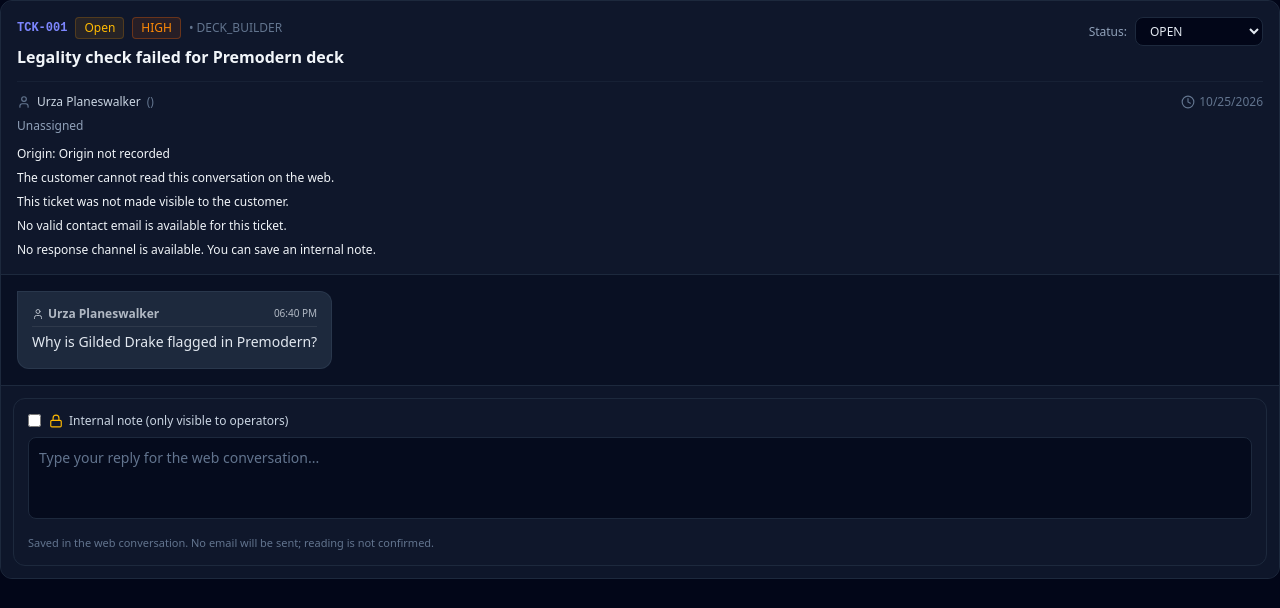
it: TicketDetail › has a distinct no-channel state and a private-only action
The width and height of the screenshot is (1280, 608).
expect the text "No response channel is available" is shown: met, box [17,241,376,258]
Click the checkbox at (34, 421), box [28,414,41,427]
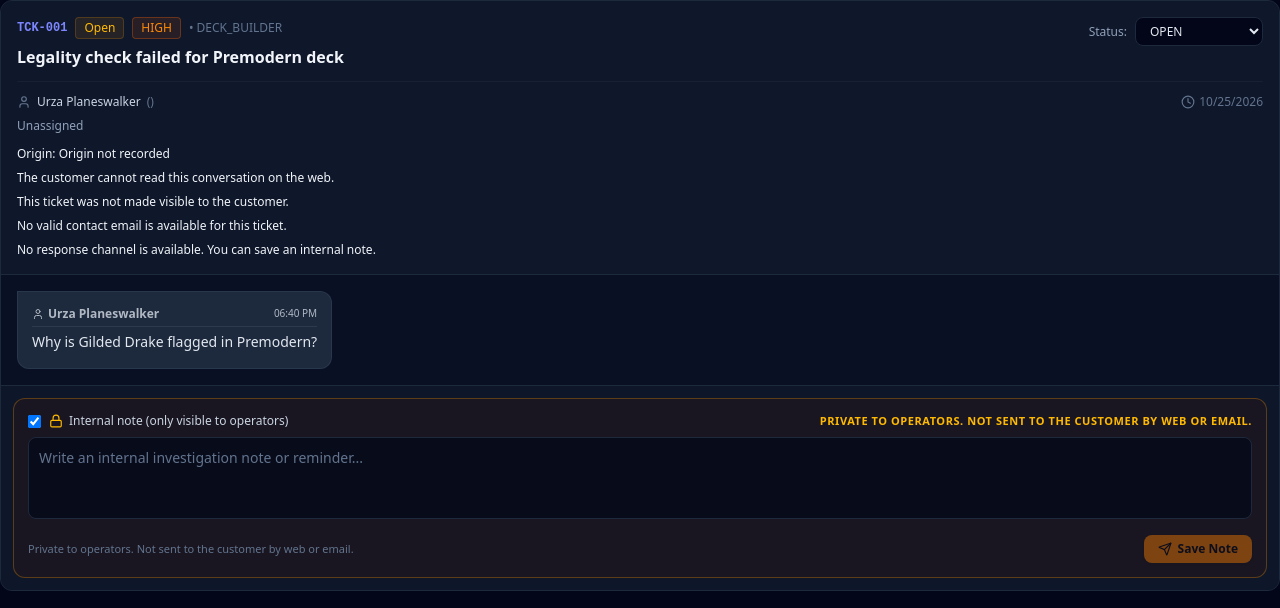
expect the button "Save Note" is disabled: met, box [1144,535,1252,563]
